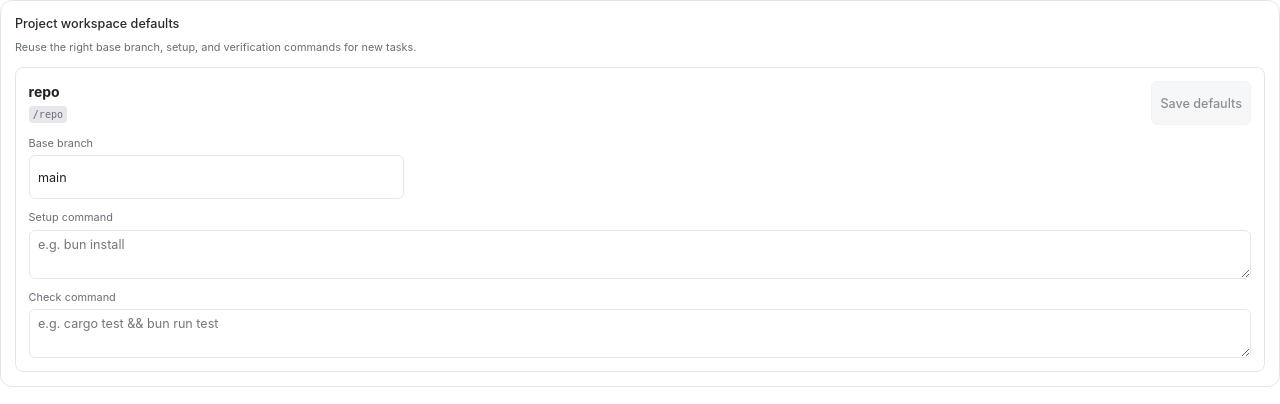
Test case: ProjectDefaults › persists setup and check defaults and updates the fleet store
Expected: the button "Save defaults" is disabled, [1151, 81, 1251, 125]
In the field named "repo base branch": point(216, 177) [29, 155, 404, 199], type "develop"
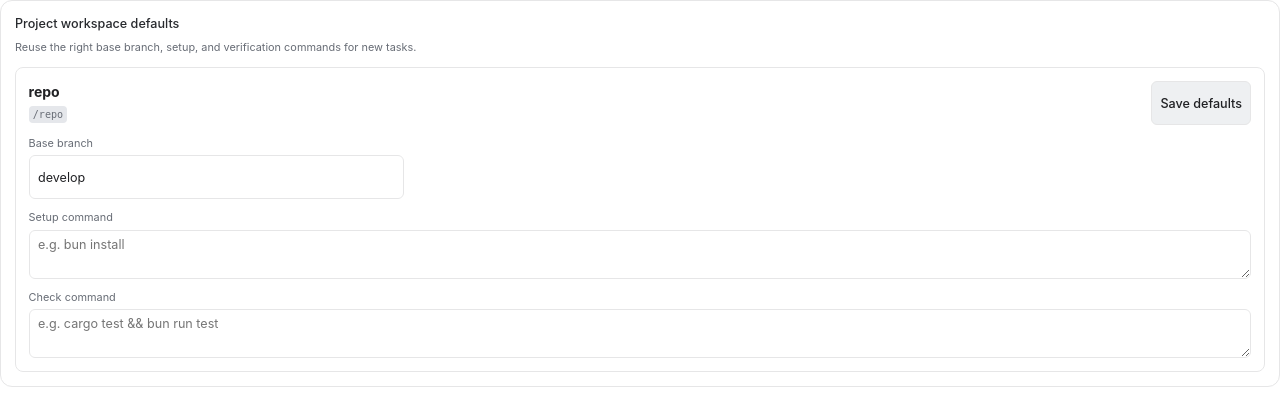
In the text box named "repo setup command": point(640, 254) [29, 230, 1251, 279], type "bun install"
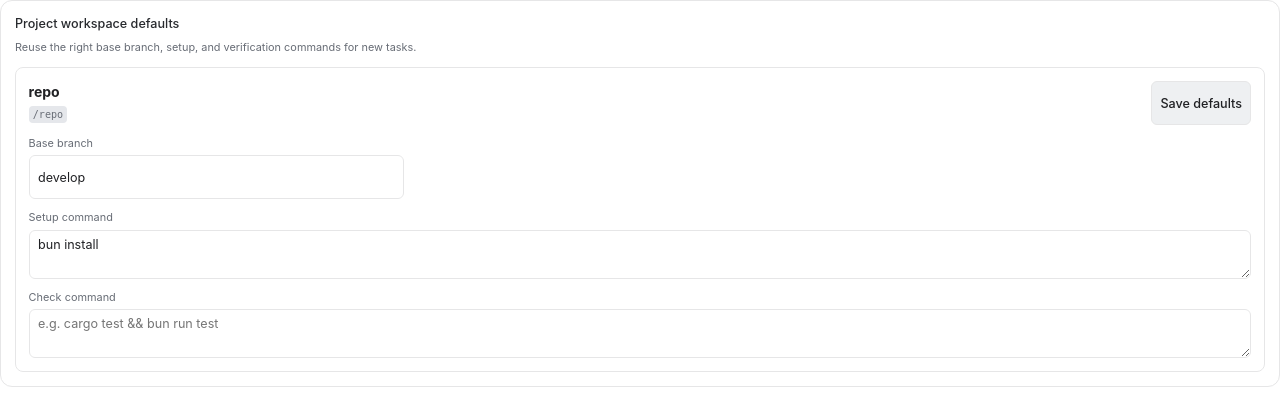
In the text box named "repo check command": point(640, 334) [29, 309, 1251, 358], type "bun run test"
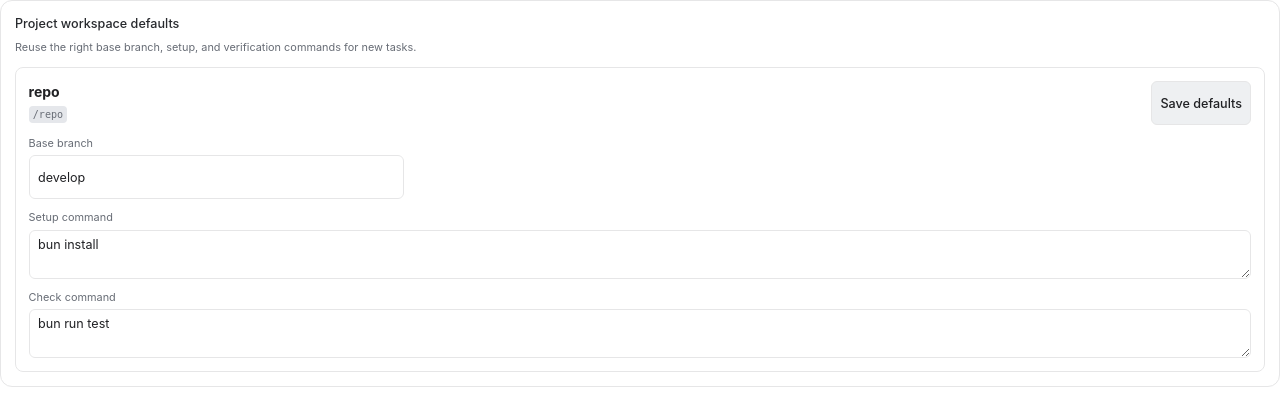
Click the button "Save defaults": point(1201, 103) [1151, 81, 1251, 125]
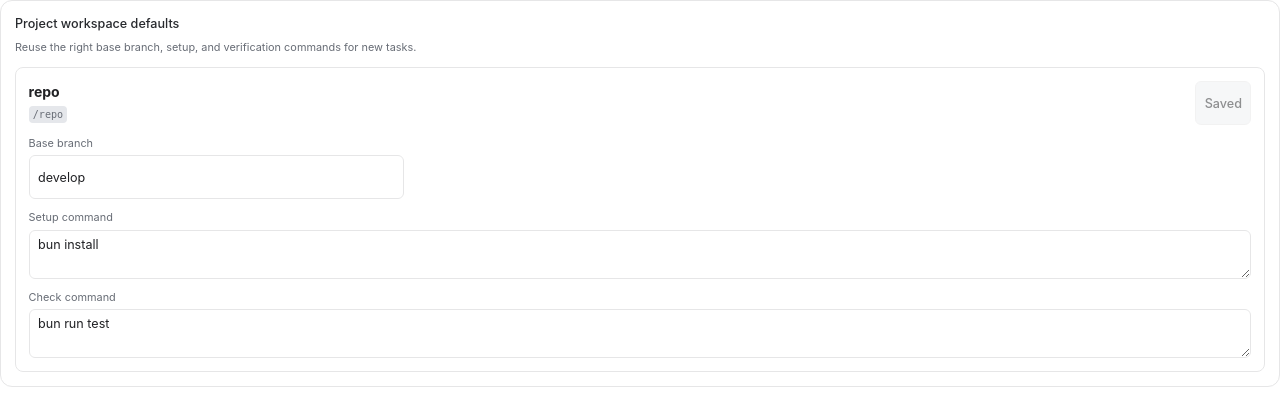
Result: the button "Saved" is disabled at [1195, 81, 1251, 125]
